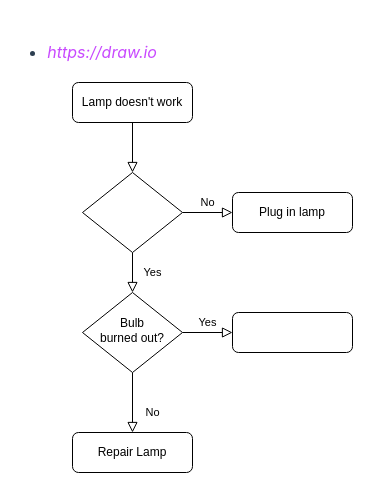
This 370x490 diagram has some shape labels left out. The centre of each missing label's shape, as x and y in pixels:
"Lamp plugged in?" belongs at (x=132, y=212).
"Replace Bulb" belongs at (x=292, y=332).
